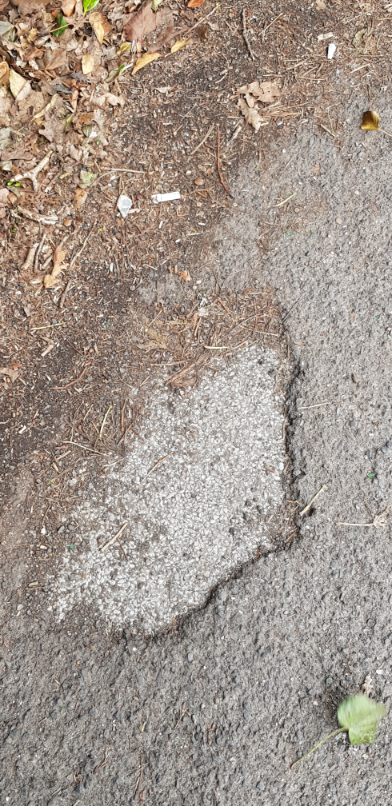pothole: (26, 286, 318, 646)
